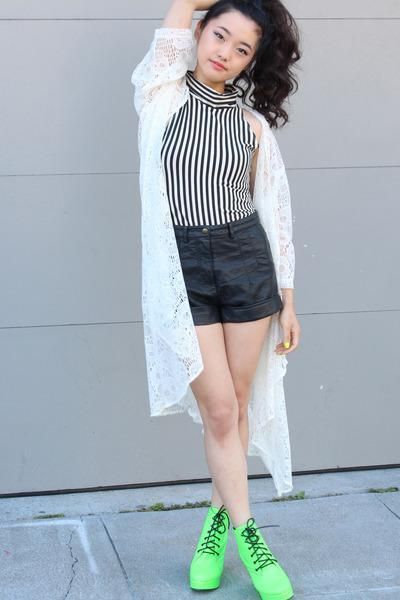jacket: (132, 25, 294, 491)
shirt: (164, 70, 261, 225)
shoe: (190, 505, 292, 599)
shorts: (171, 204, 283, 325)
